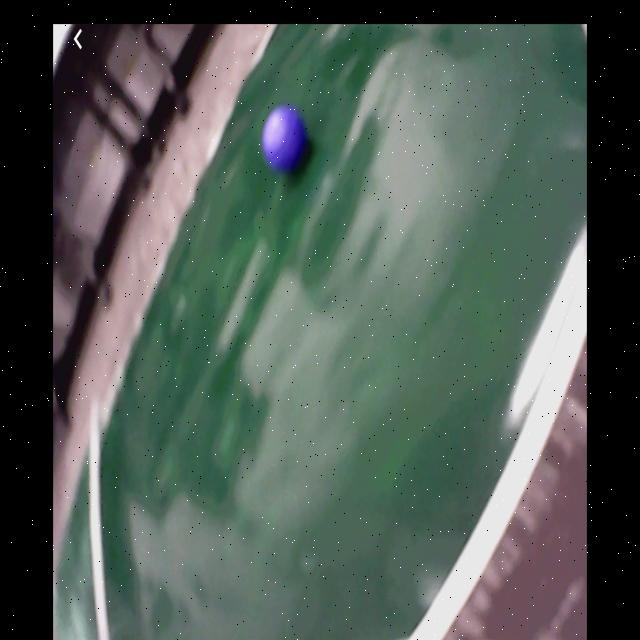ball: (263, 111, 311, 177)
